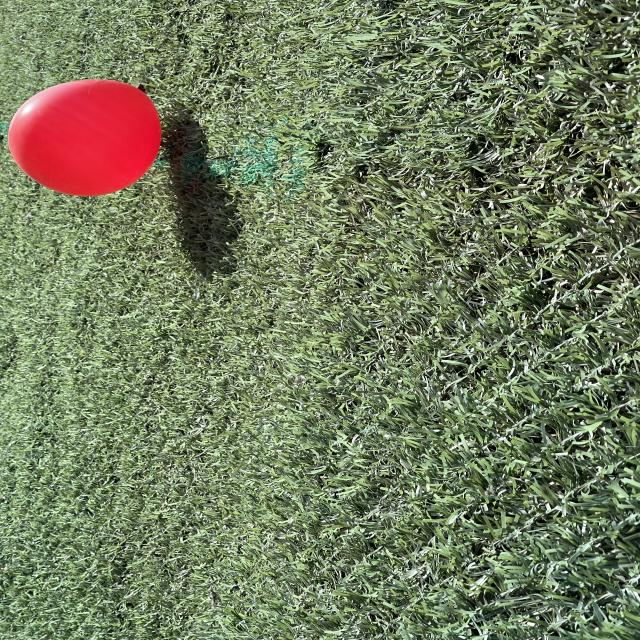balloon: (8, 79, 161, 196)
